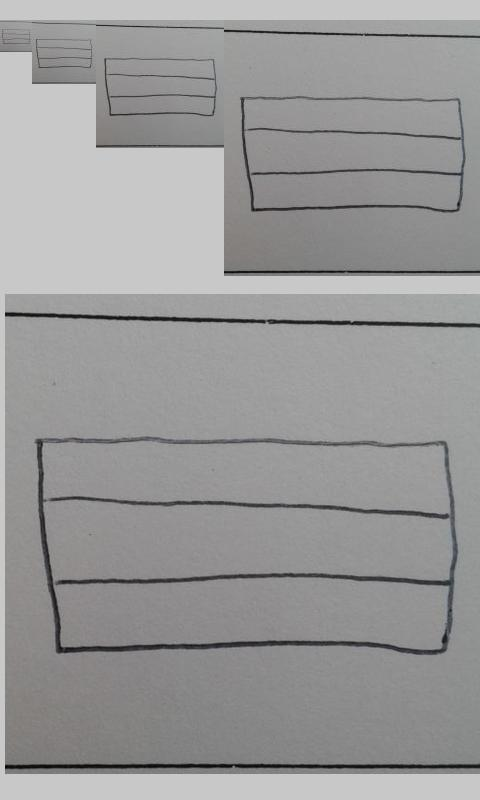list_view: (34, 433, 459, 662), (239, 93, 467, 216), (103, 55, 219, 118), (35, 38, 94, 69), (1, 28, 31, 45)
